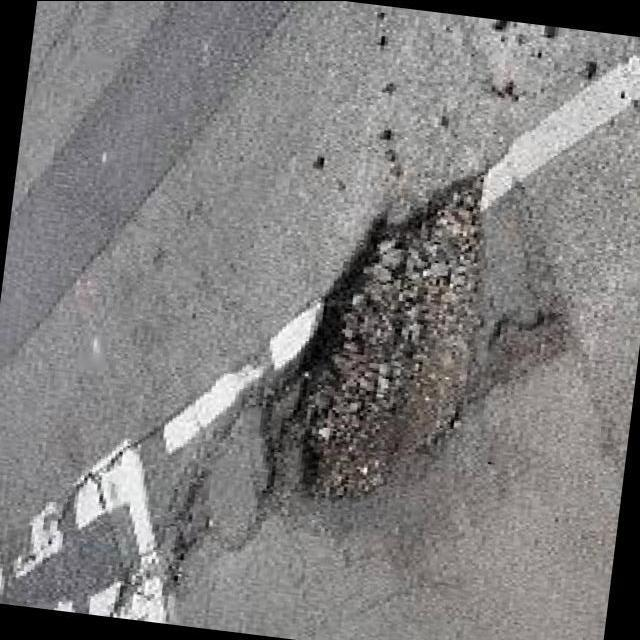pothole: (259, 173, 484, 525), (162, 476, 208, 610)
